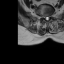CCS_normal: (46, 14, 48, 22)
LFS_stenosis: (49, 13, 51, 19)
LLS_normal: (48, 14, 49, 21)
RFS_stenosis: (42, 14, 44, 19)
RLS_normal: (44, 14, 46, 20)
